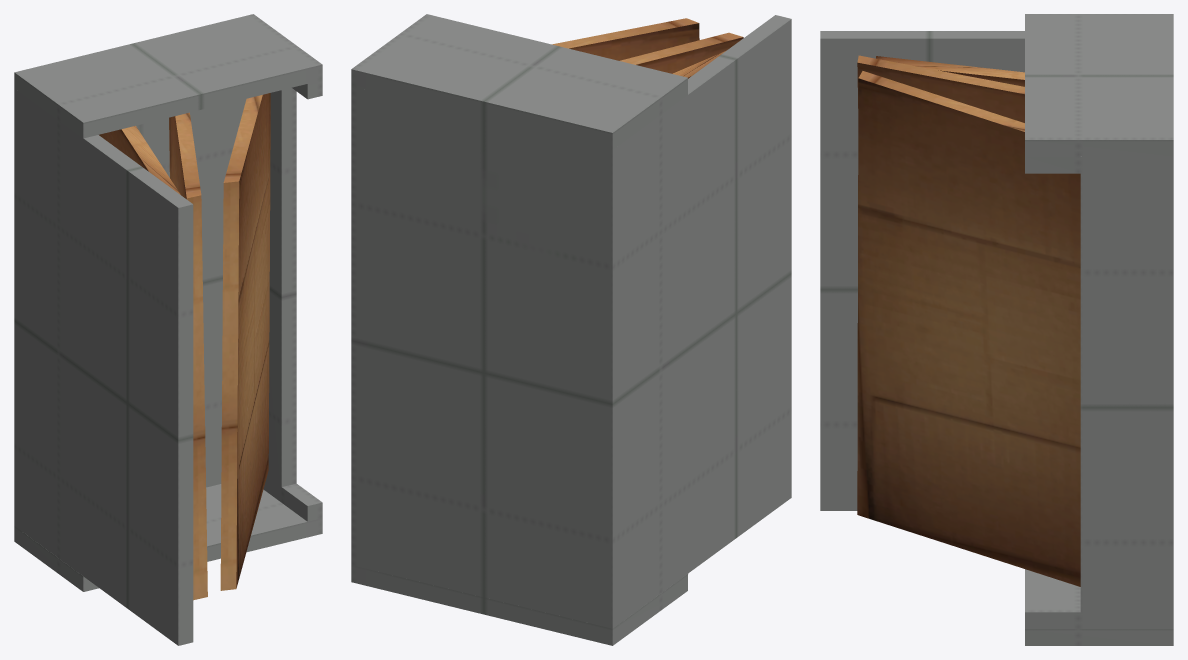
Rendered from box_holder_2.vmf.obj.
The picture shows the model from 3 angles, left to right: view 1: azimuth 30°, elevation 25°; view 2: azimuth 150°, elevation 25°; view 3: azimuth 270°, elevation 25°; orthographic projection. The views are drawn at different scales.
Parts seen in each view (by area): view 1: 4, 9, 133, 3, 7, 6, 2, 5, 10; view 2: 3, 4, 9, 7, 2, 133, 6; view 3: 133, 7, 4, 9, 6, 2, 10, 5, 8.
Boxes of the visible parts, box(x1,y1,x2,y2) form: 4: box(23, 94, 193, 645); 9: box(14, 14, 322, 138); 133: box(220, 93, 270, 590); 3: box(14, 88, 246, 531); 7: box(263, 88, 296, 502); 6: box(169, 112, 207, 600); 2: box(14, 484, 322, 591); 5: box(99, 126, 180, 194); 10: box(281, 483, 322, 521); 3: box(367, 90, 621, 628); 4: box(596, 15, 791, 621); 9: box(351, 14, 687, 149); 7: box(351, 86, 367, 568); 2: box(351, 565, 687, 645); 133: box(552, 18, 699, 60); 6: box(620, 32, 743, 73); 133: box(857, 71, 1080, 586); 7: box(1080, 156, 1173, 628); 4: box(820, 31, 1024, 510); 9: box(1025, 14, 1173, 156); 6: box(857, 55, 1024, 122); 2: box(1025, 569, 1173, 645); 10: box(1025, 604, 1080, 628); 5: box(876, 56, 1024, 86); 8: box(1025, 156, 1080, 173).
Size of the model in its own units: 16.01 by 30 by 19.
Materials: 2 (2 with a texture image).
